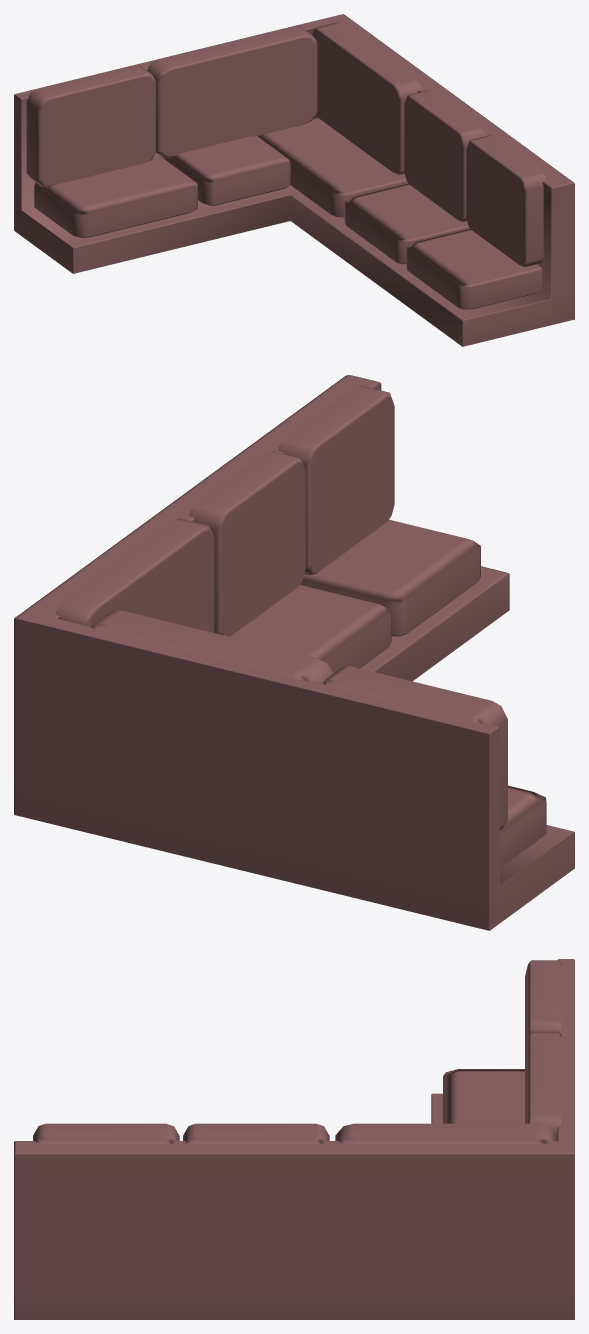
File: navajo_couch_v02_mirrored.fbx
3 views of the same model, one above another, from view 1: azimuth 30°, elevation 25°; view 2: azimuth 150°, elevation 25°; view 3: azimuth 270°, elevation 25° (orthographic). The views are drawn at different scales.
Visible parts, largest first — view 1: polySurface60; view 2: polySurface60; view 3: polySurface60.
Boxes of the visible parts, x1,y1,x2,y2 form: polySurface60: (14, 14, 574, 346); polySurface60: (14, 375, 574, 930); polySurface60: (14, 959, 574, 1319).
Bounding box in the file's own units: 3.11 × 1.29 × 3.78.
